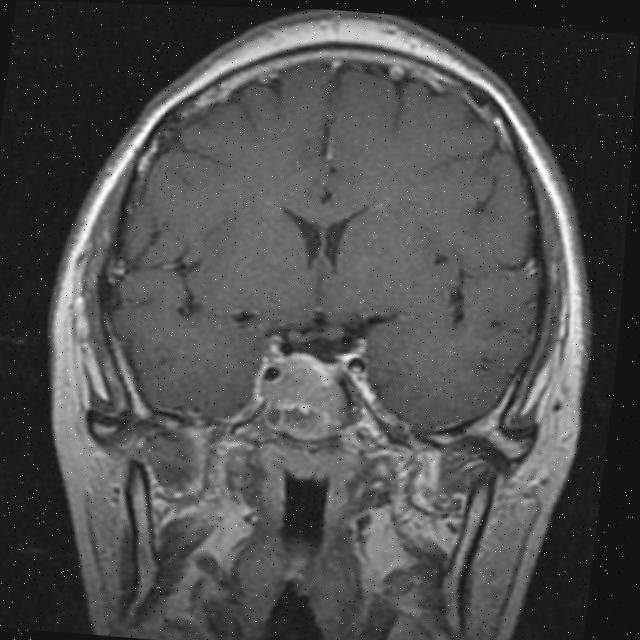Pituitary: (270, 349, 357, 446)
